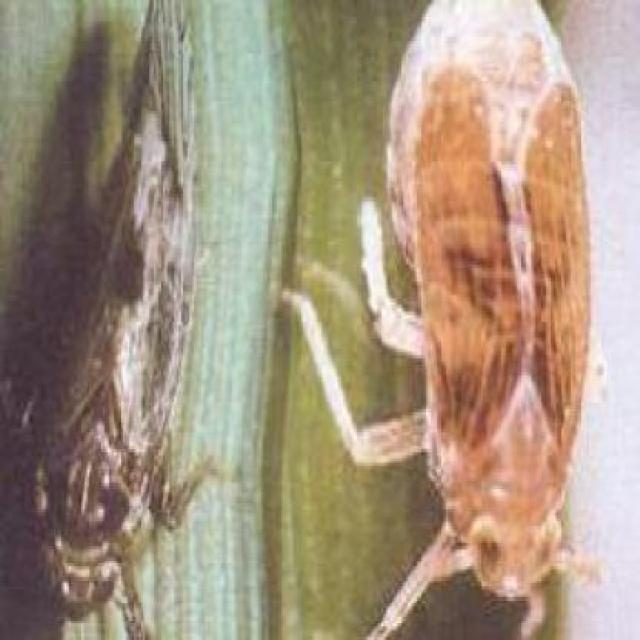brown-planthopper: (8, 4, 206, 619), (400, 0, 594, 615)
